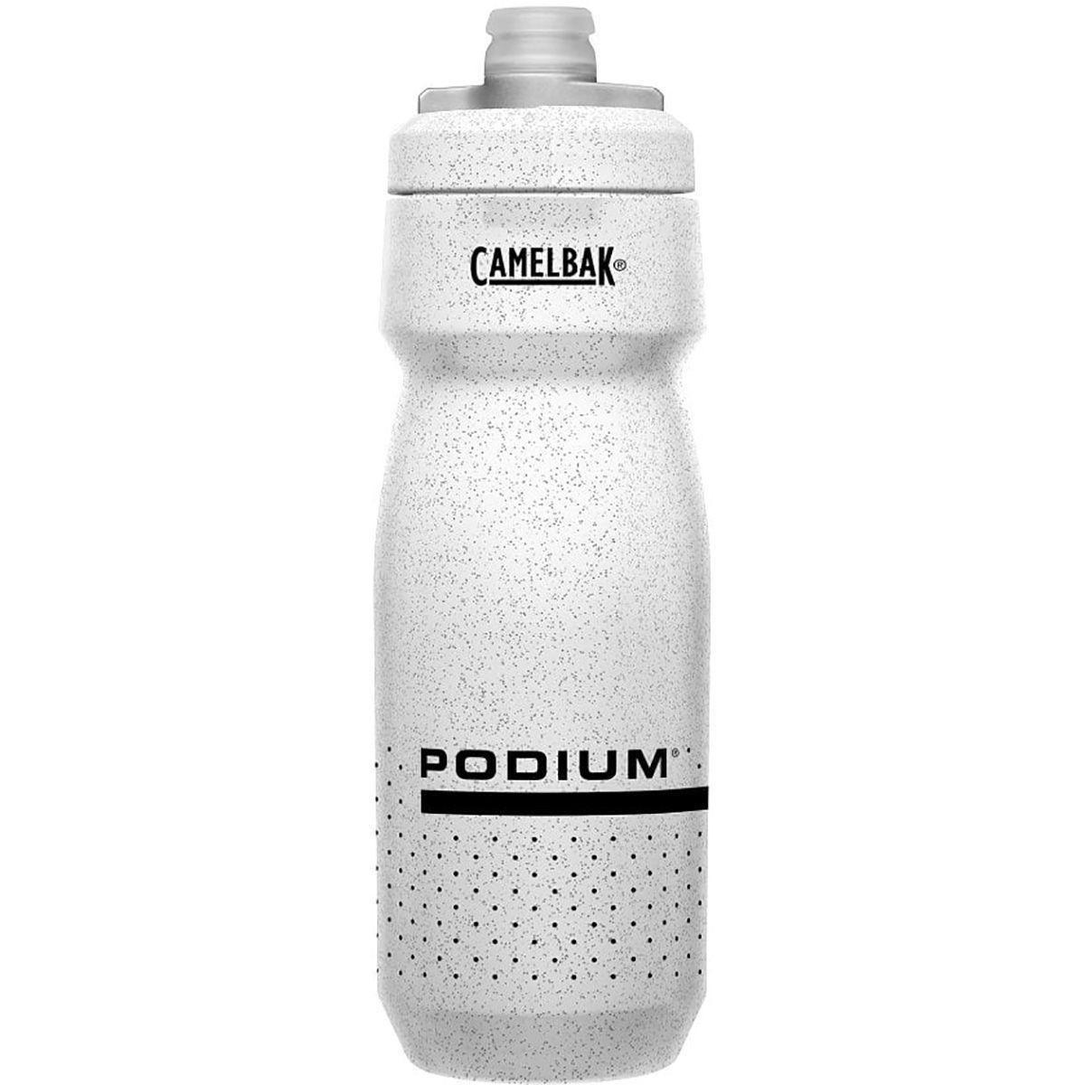gym bottle: (374, 7, 719, 1080)
